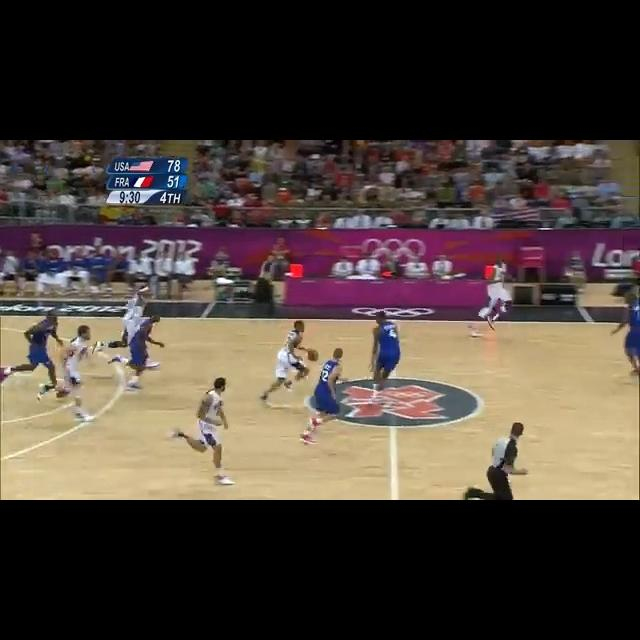basketball: (306, 349, 319, 362)
